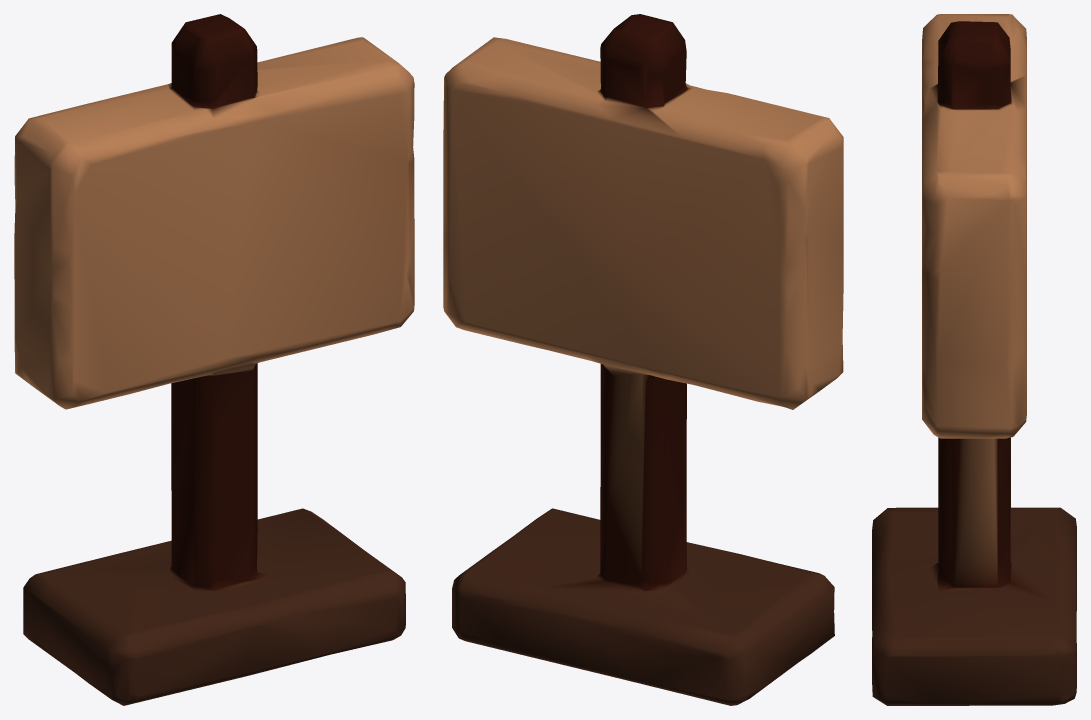
Rendered from gen3d-thin-ice-sign-lod1.glb.
3 renders of one model, left to right at view 1: azimuth 30°, elevation 25°; view 2: azimuth 150°, elevation 25°; view 3: azimuth 270°, elevation 25°, orthographic.
Visible parts, largest first — view 1: part_0; view 2: part_0; view 3: part_0.
Boxes of the visible parts, <box> form: part_0: <box>14,14,414,705</box>; part_0: <box>443,14,843,705</box>; part_0: <box>872,14,1076,705</box>.
Size of the model in its own units: 0.6191 by 1 by 0.3044.
